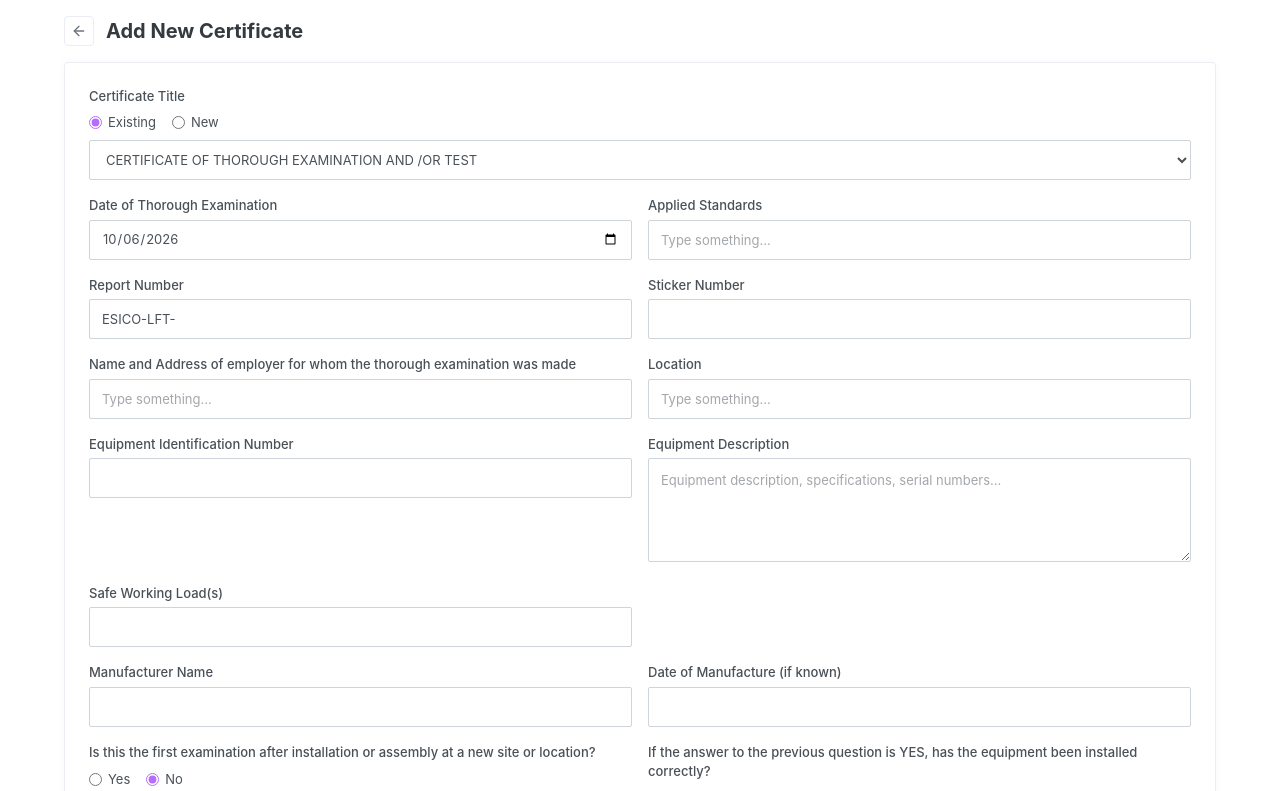
Test: NewCertificate › renders the certificate form and supports a custom title
This screenshot has width=1280, height=791.
Expected: the heading "Add New Certificate" is shown, [106,17,303,45]
Click the radio button labelled "New".
click(178, 122)  # box [172,116,185,129]
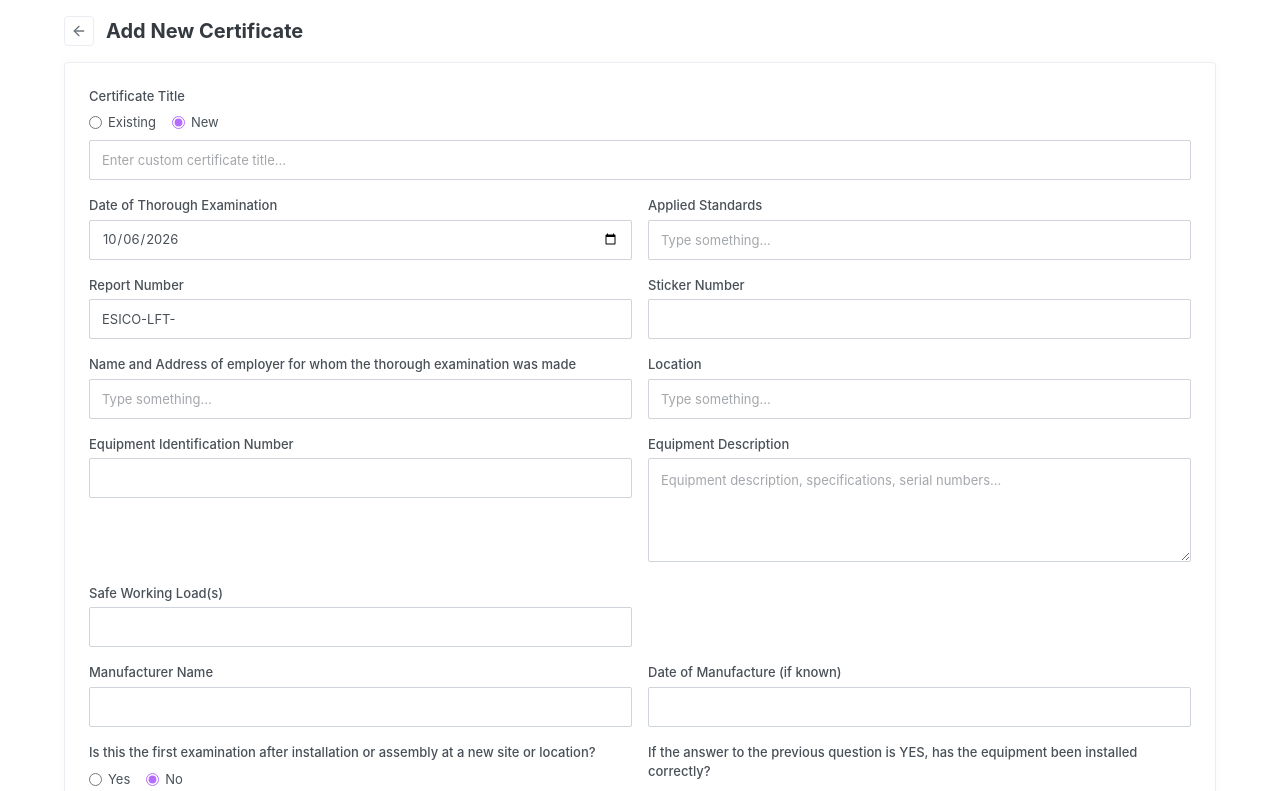
Expected: the field with placeholder "Enter custom certificate title..." is shown, [89,140,1191,180]
